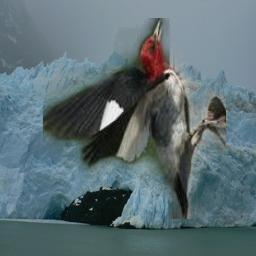Woodpecker: (43, 18, 226, 219)
